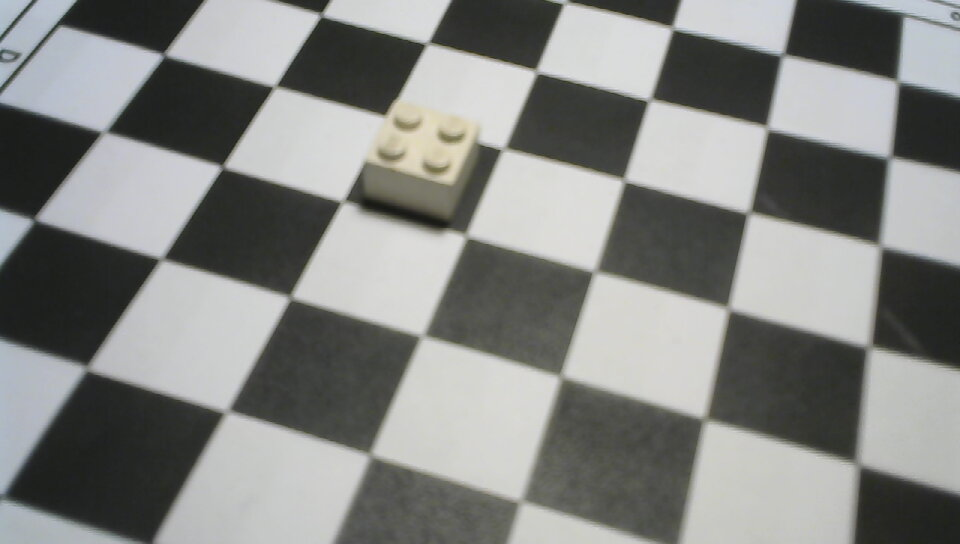wp: (348, 97, 489, 227)
